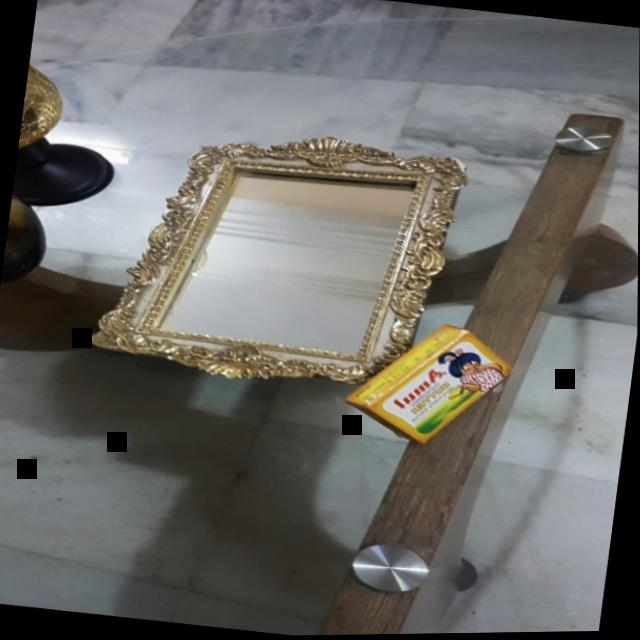butter: (344, 314, 516, 456)
